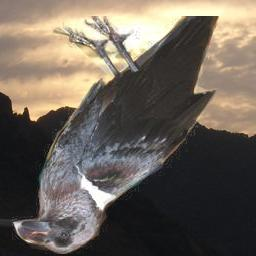Crow: (12, 16, 220, 254)
